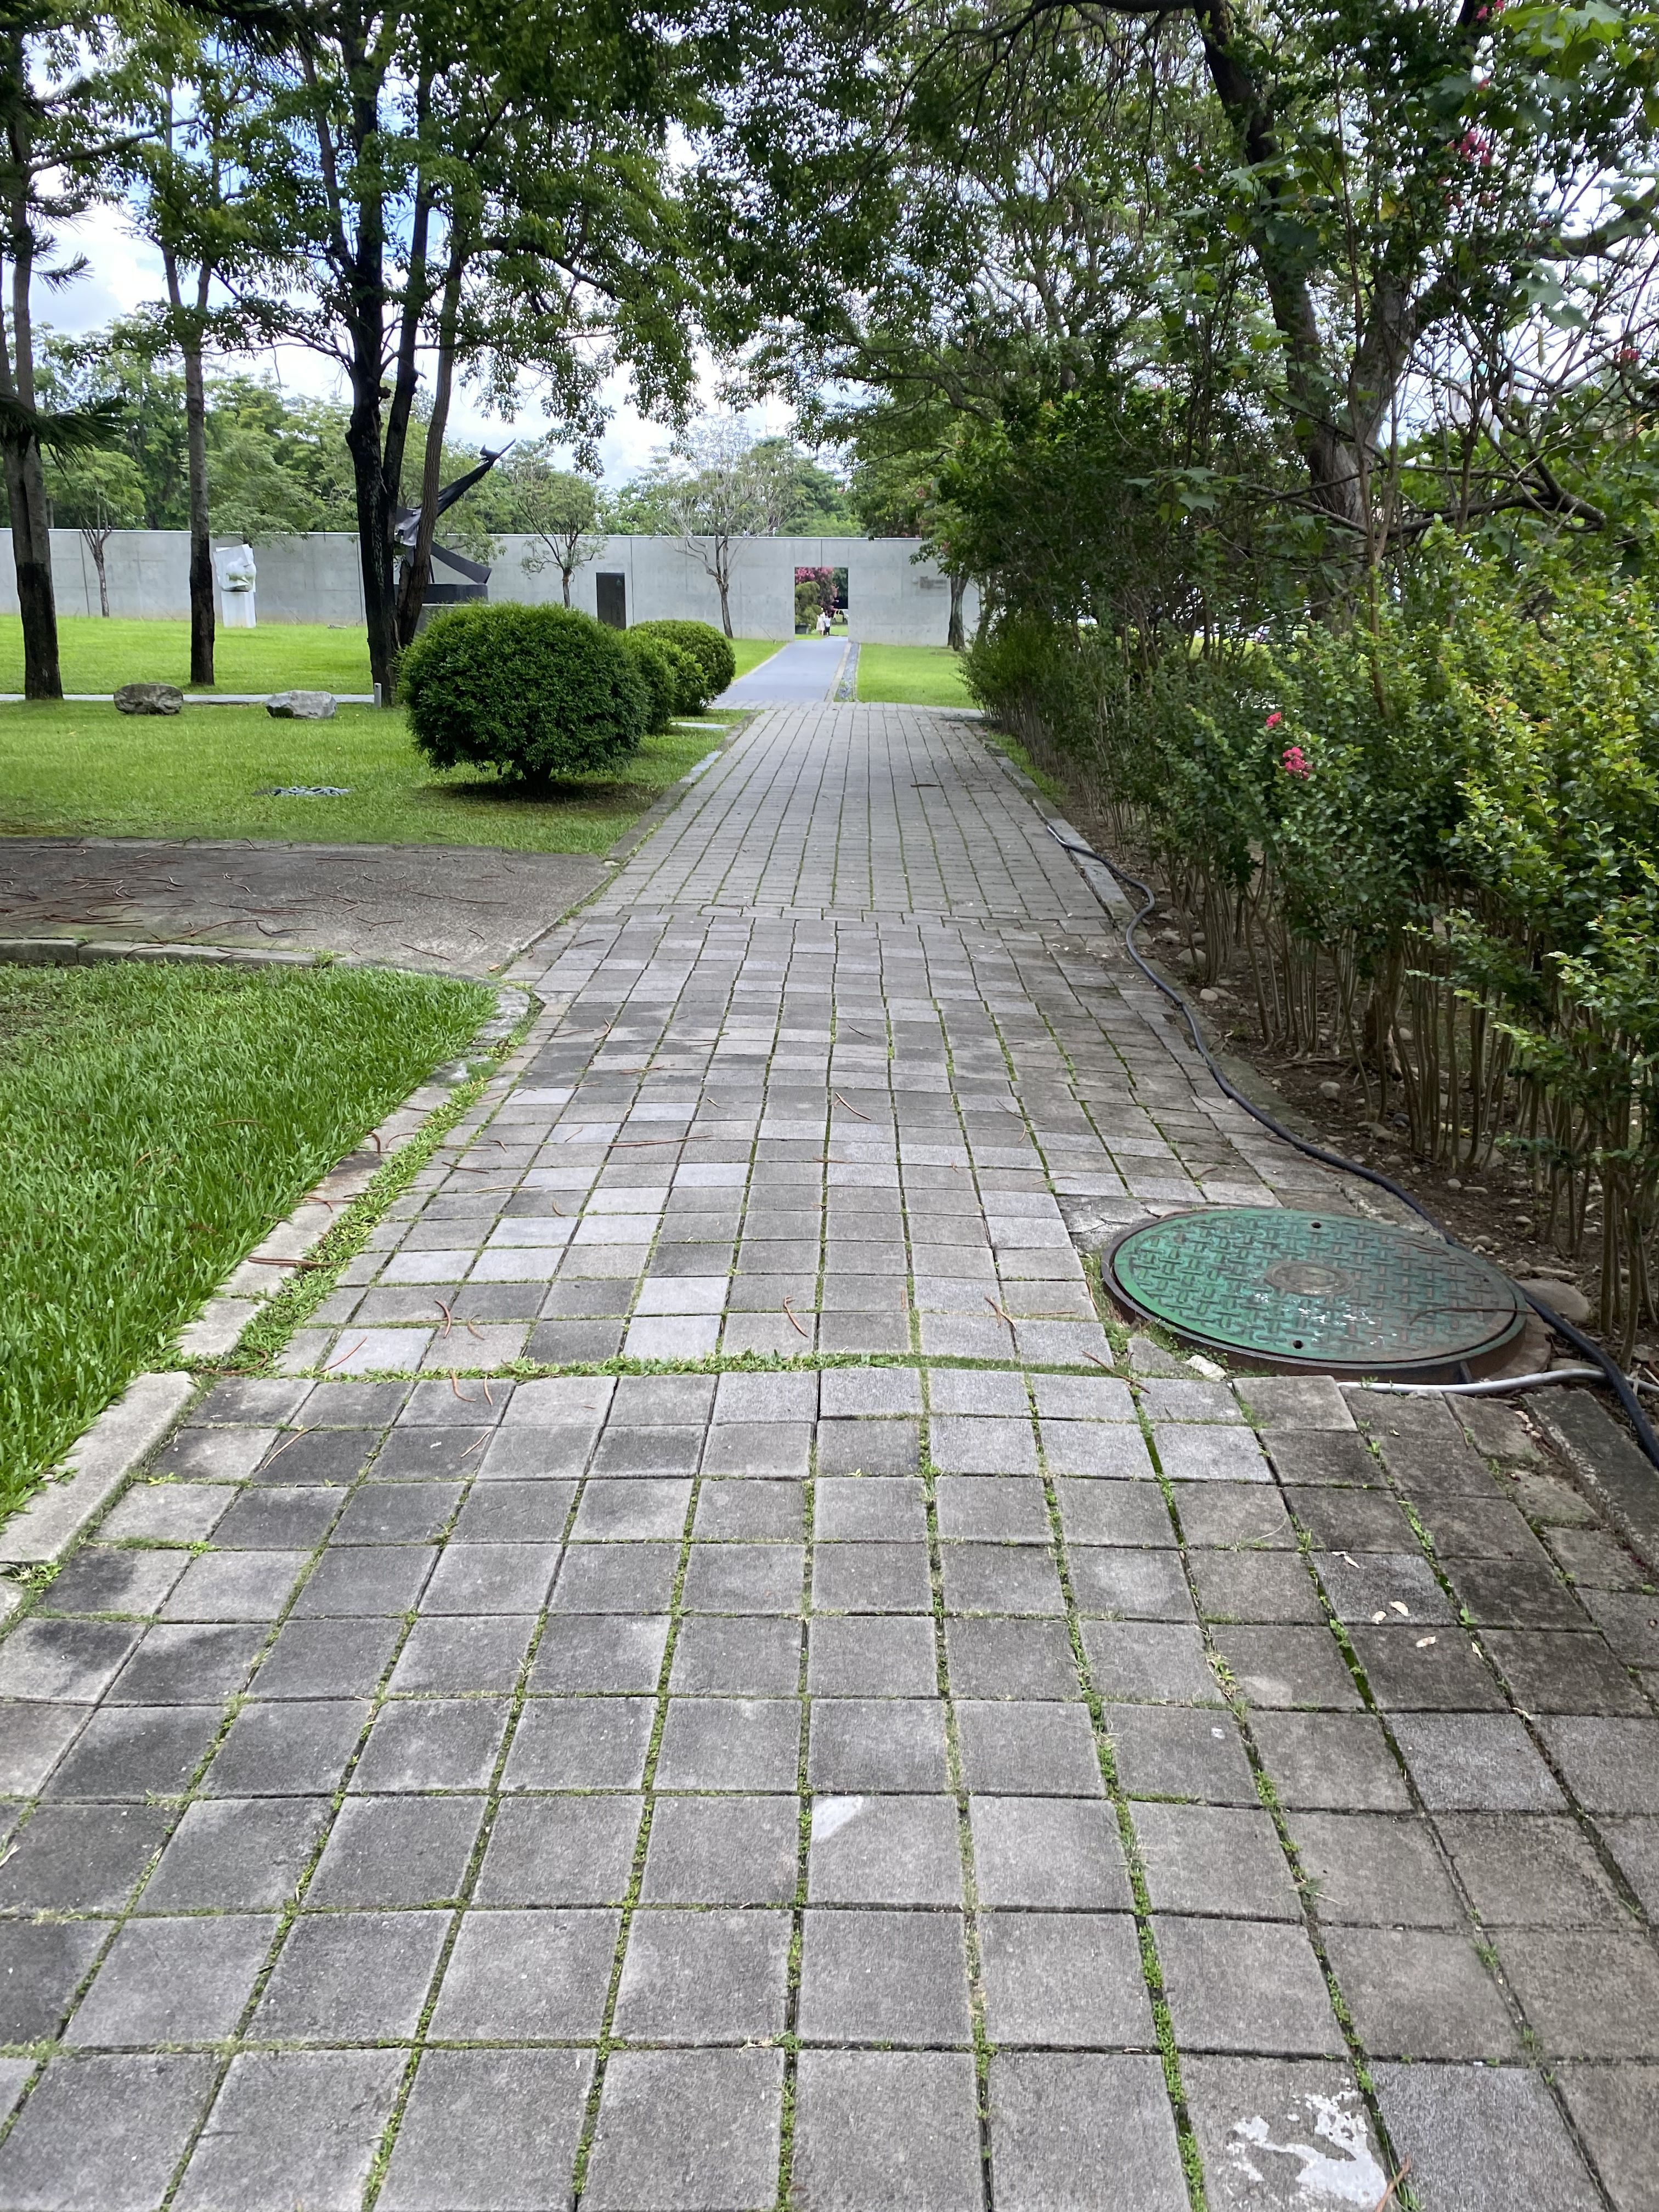0: (714, 601, 1094, 857)
sidewalk: (7, 836, 1659, 2212)
